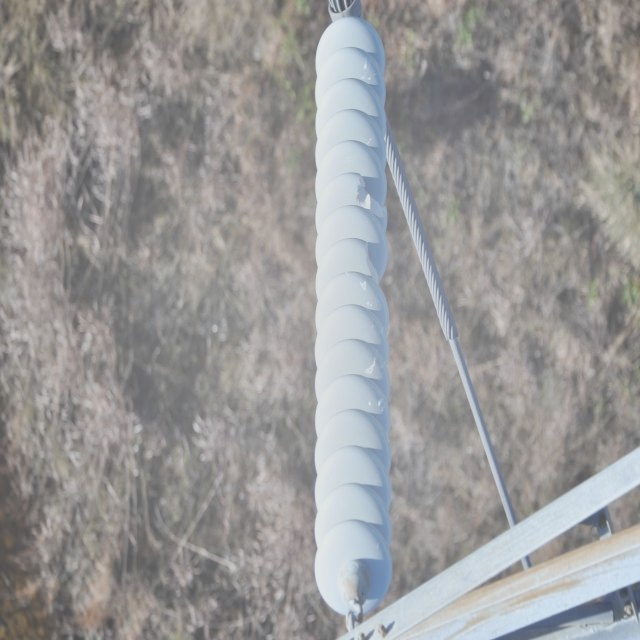broken: (355, 171, 387, 218)
insulator: (313, 16, 392, 616)
